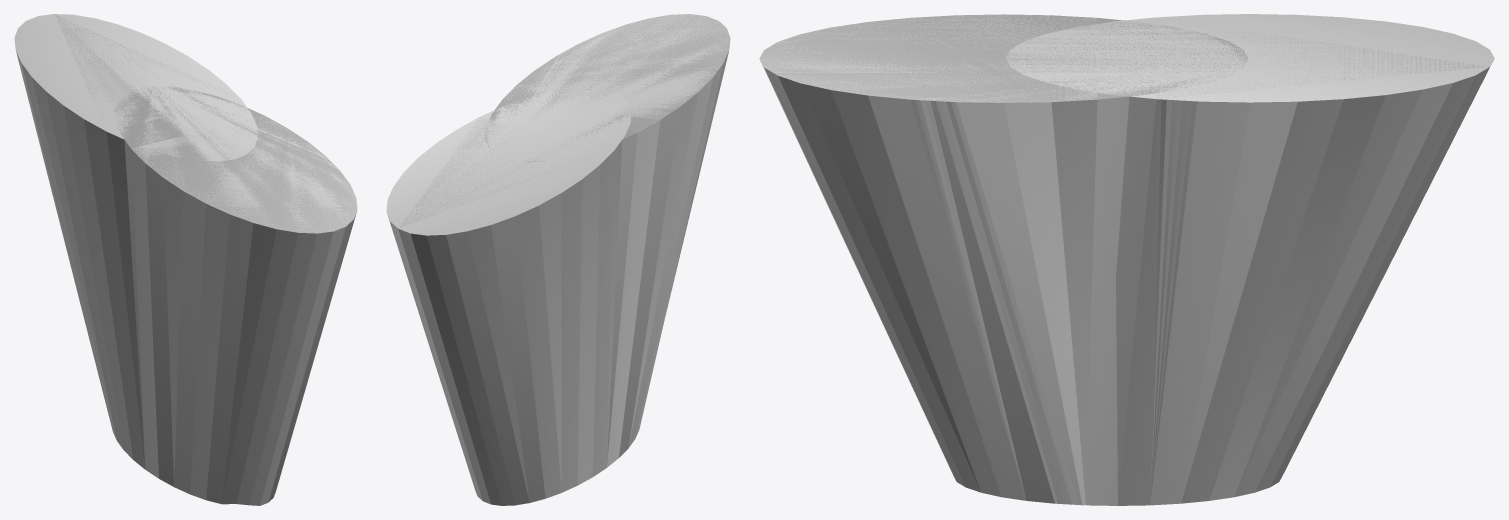
File: CrochetStitches 1.fbx
3 renders of one model, left to right at view 1: azimuth 30°, elevation 25°; view 2: azimuth 150°, elevation 25°; view 3: azimuth 270°, elevation 25°, orthographic. The views are drawn at different scales.
Visible parts, largest first — view 1: INC/DEC.001; view 2: INC/DEC.001; view 3: INC/DEC.001.
Boxes of the visible parts, bbox=[...] form: INC/DEC.001: bbox=[14, 14, 357, 505]; INC/DEC.001: bbox=[386, 14, 730, 505]; INC/DEC.001: bbox=[759, 14, 1494, 505].
Size of the model in its own units: 60.32 by 131 by 211.
